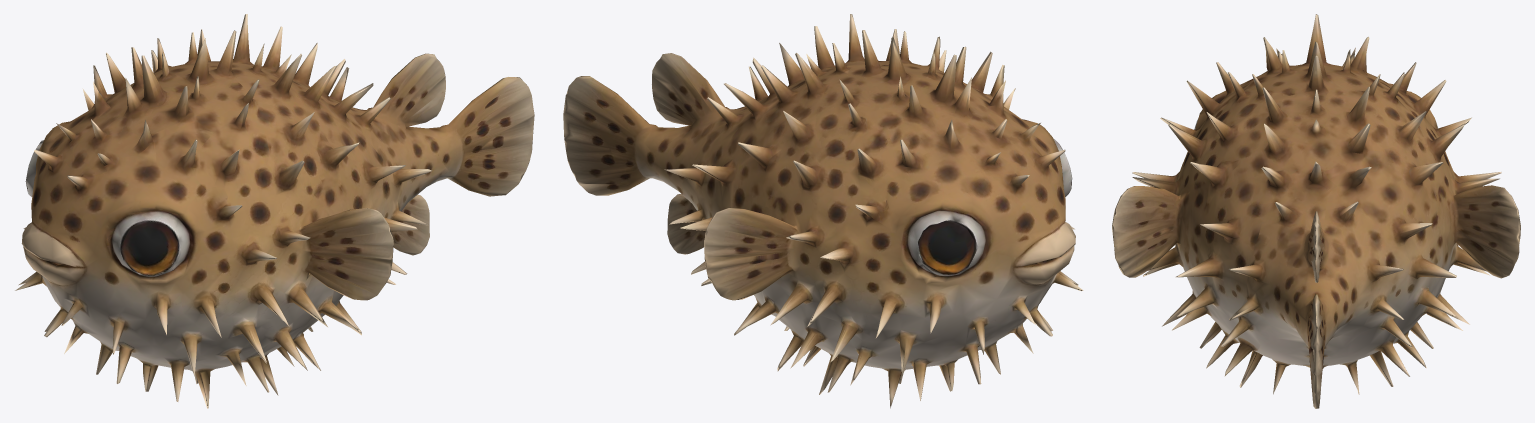
Rendered from fish-ezh.glb.
The picture shows the model from 3 angles, left to right: view 1: azimuth 30°, elevation 25°; view 2: azimuth 150°, elevation 25°; view 3: azimuth 270°, elevation 25°; orthographic projection. The views are drawn at different scales.
Visible parts, largest first — view 1: tripo_node_27f538a1-1f7d-44a4-9ed6-30213997da1d; view 2: tripo_node_27f538a1-1f7d-44a4-9ed6-30213997da1d; view 3: tripo_node_27f538a1-1f7d-44a4-9ed6-30213997da1d.
Part boxes in pixels (left/top/right/bottom): tripo_node_27f538a1-1f7d-44a4-9ed6-30213997da1d: left=15, top=14, right=534, bottom=408; tripo_node_27f538a1-1f7d-44a4-9ed6-30213997da1d: left=563, top=14, right=1083, bottom=408; tripo_node_27f538a1-1f7d-44a4-9ed6-30213997da1d: left=1112, top=14, right=1520, bottom=408.
Bounding box in the file's own units: 0.9993 × 0.6528 × 0.7199.
Materials: 1 (1 with a texture image).
